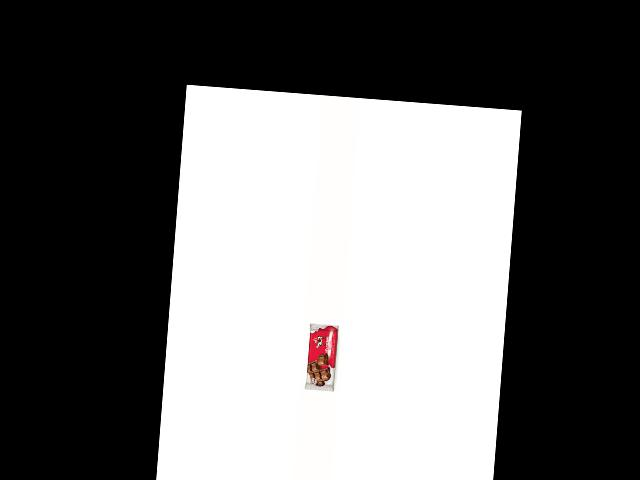chocolate: (302, 321, 344, 393)
